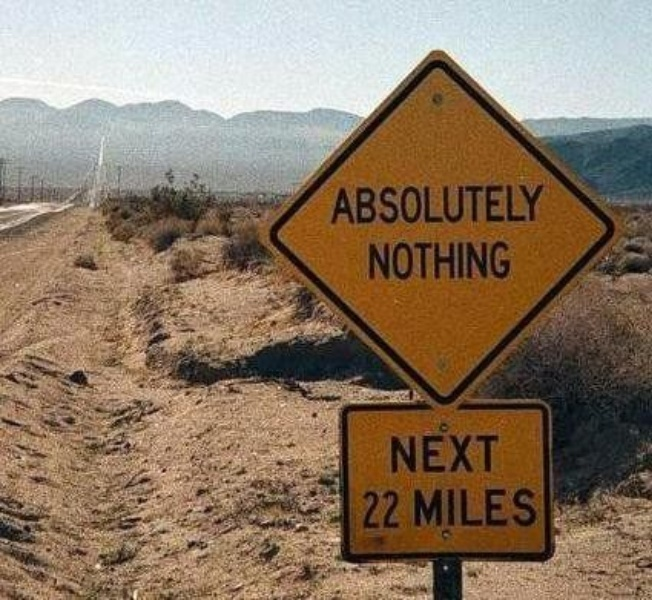text: (385, 490, 401, 530), (337, 183, 352, 225), (353, 183, 368, 225), (369, 183, 384, 225), (385, 183, 400, 225), (401, 183, 416, 225), (417, 183, 432, 225), (433, 183, 448, 225), (449, 183, 464, 225), (465, 183, 480, 225), (481, 183, 496, 225), (497, 183, 512, 225), (513, 183, 528, 225), (529, 183, 544, 225), (369, 241, 384, 281), (385, 241, 400, 281), (401, 241, 416, 281), (417, 241, 432, 281), (433, 241, 448, 281), (449, 241, 464, 281), (465, 241, 480, 281), (481, 241, 496, 281), (401, 433, 416, 473), (417, 433, 432, 473), (433, 433, 448, 473), (449, 433, 464, 473), (465, 433, 480, 473), (481, 433, 496, 473), (369, 490, 384, 530), (417, 487, 432, 527), (433, 487, 448, 527), (449, 487, 464, 527), (465, 487, 480, 527), (481, 487, 496, 527), (497, 487, 512, 527), (513, 487, 528, 527), (497, 241, 511, 281), (390, 433, 400, 473), (529, 487, 539, 527), (363, 490, 368, 530), (413, 487, 416, 527), (497, 433, 499, 473)
